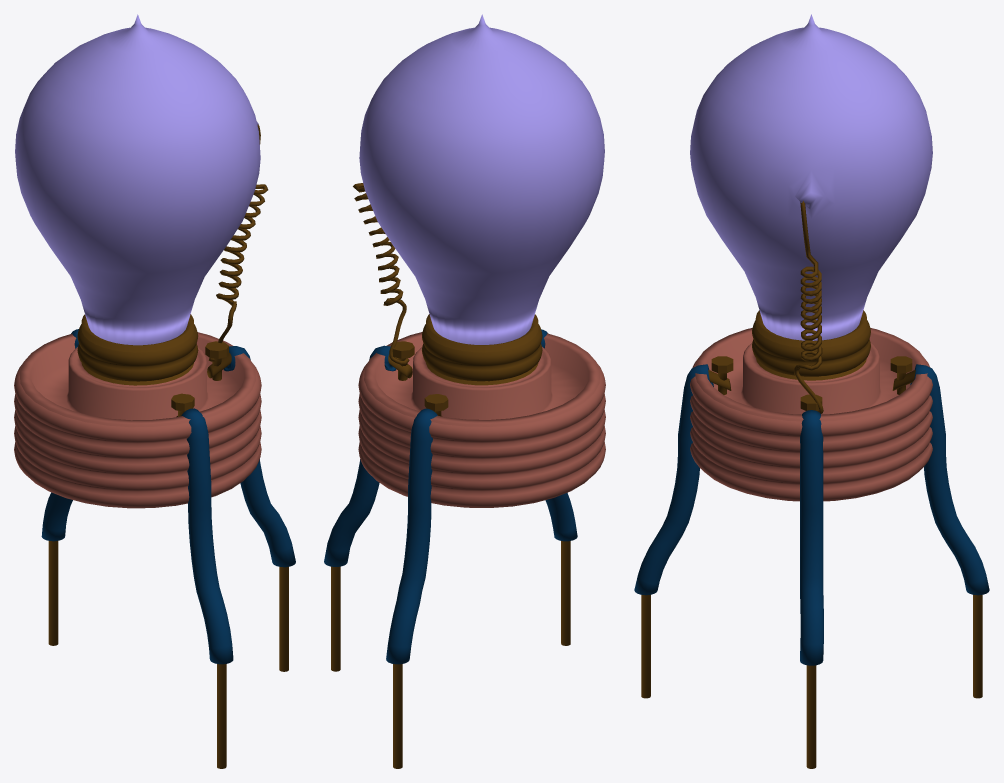
Rendered from 1889_thermionic_diode_valve.fbx.
The picture shows the model from 3 angles, left to right: view 1: azimuth 30°, elevation 25°; view 2: azimuth 150°, elevation 25°; view 3: azimuth 270°, elevation 25°; orthographic projection.
Visible parts, largest first — view 1: diode_valve; view 2: diode_valve; view 3: diode_valve.
Boxes of the visible parts, <box> form: diode_valve: <box>14,14,295,768</box>; diode_valve: <box>324,14,605,768</box>; diode_valve: <box>634,14,989,768</box>.
Bounding box in the file's own units: 217 × 544 × 257.
